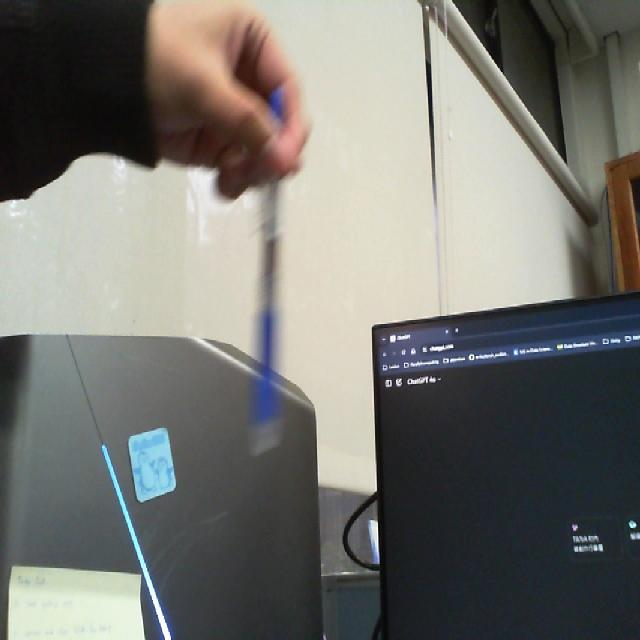Pen: (241, 71, 292, 472)
